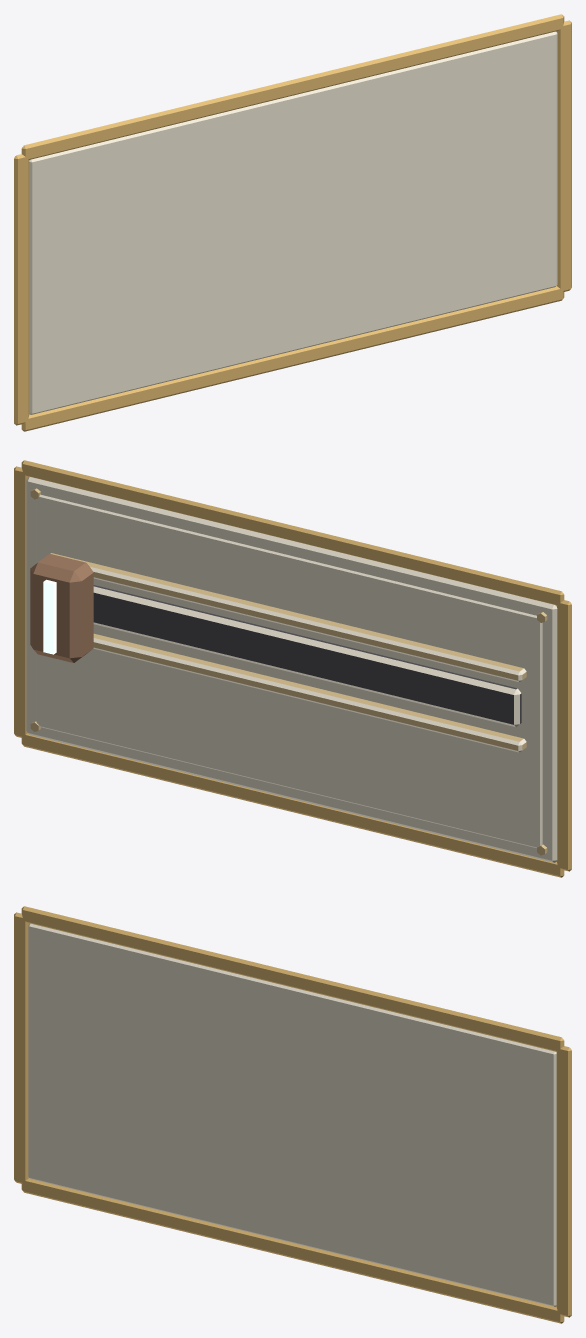
File: Ctl_Slider_2x1.fbx
3 views of the same model, one above another, from view 1: azimuth 30°, elevation 25°; view 2: azimuth 150°, elevation 25°; view 3: azimuth 330°, elevation 25° (orthographic).
Visible parts, largest first — view 1: Ctl_Slider_2x1, Ctl_Slider_2x1_Frame; view 2: Ctl_Slider_2x1, Ctl_Slider_2x1_Frame, Moving.010; view 3: Ctl_Slider_2x1, Ctl_Slider_2x1_Frame.
Part boxes in pixels (x1,y1,x2,y2): Ctl_Slider_2x1: (29,31,557,414); Ctl_Slider_2x1_Frame: (14,14,571,431); Ctl_Slider_2x1: (26,476,557,862); Ctl_Slider_2x1_Frame: (14,460,571,877); Moving.010: (30,554,93,662); Ctl_Slider_2x1: (28,923,556,1306); Ctl_Slider_2x1_Frame: (14,906,571,1323).
Size of the model in its own units: 2.16 by 1.06 by 0.22.
